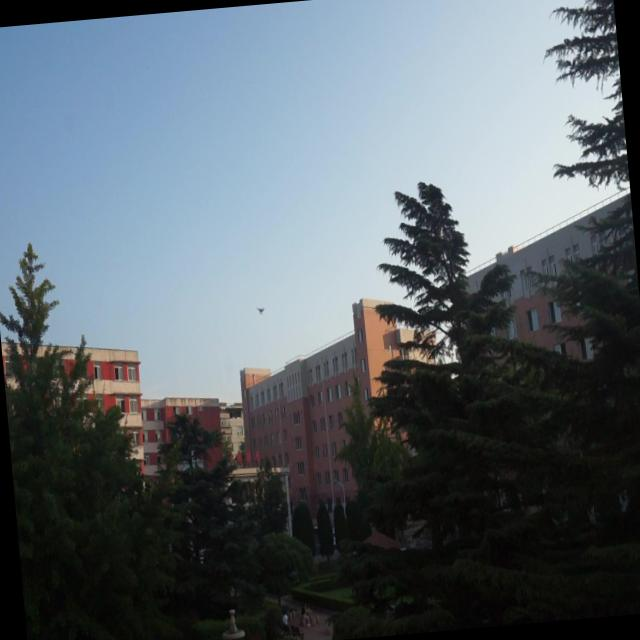drone: (254, 301, 268, 318)
